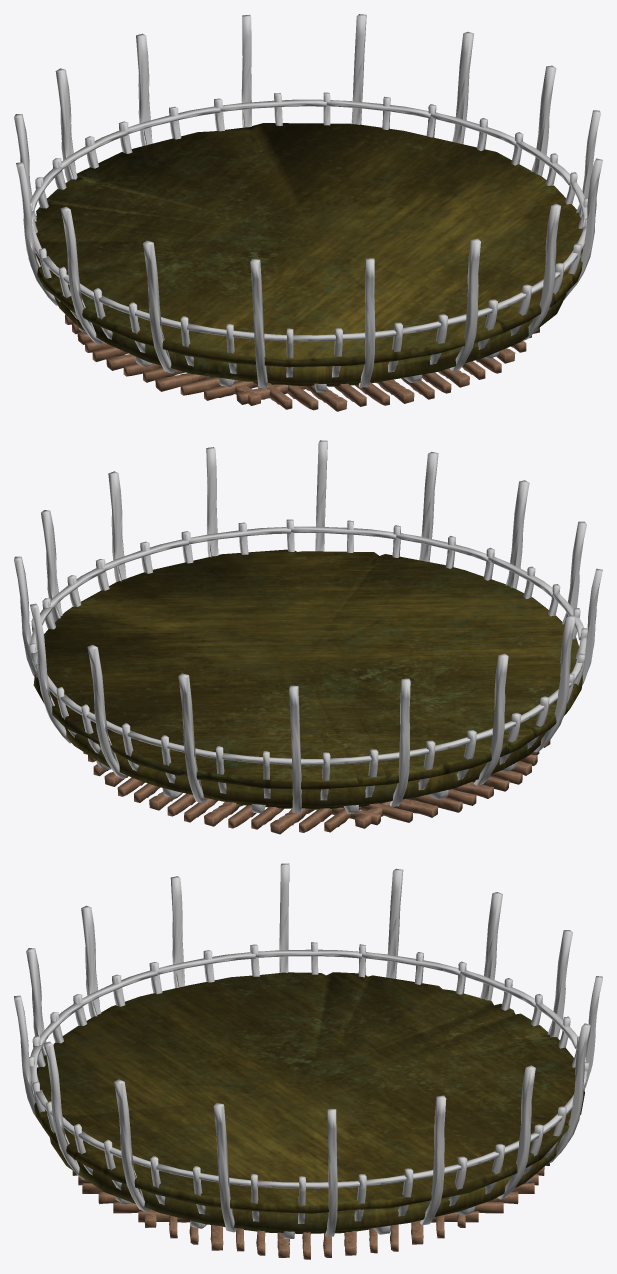
The model's file is SM_platform_bordered.fbx.
3 views of the same model, one above another, from view 1: azimuth 30°, elevation 25°; view 2: azimuth 150°, elevation 25°; view 3: azimuth 270°, elevation 25° (orthographic).
Visible parts, largest first — view 1: platform_bordered; view 2: platform_bordered; view 3: platform_bordered.
Boxes of the visible parts, x1=… form: platform_bordered: x1=14, y1=14, x2=602, y2=411; platform_bordered: x1=14, y1=440, x2=602, y2=834; platform_bordered: x1=14, y1=863, x2=602, y2=1259.
Size of the model in its own units: 2375 by 754 by 2375.
